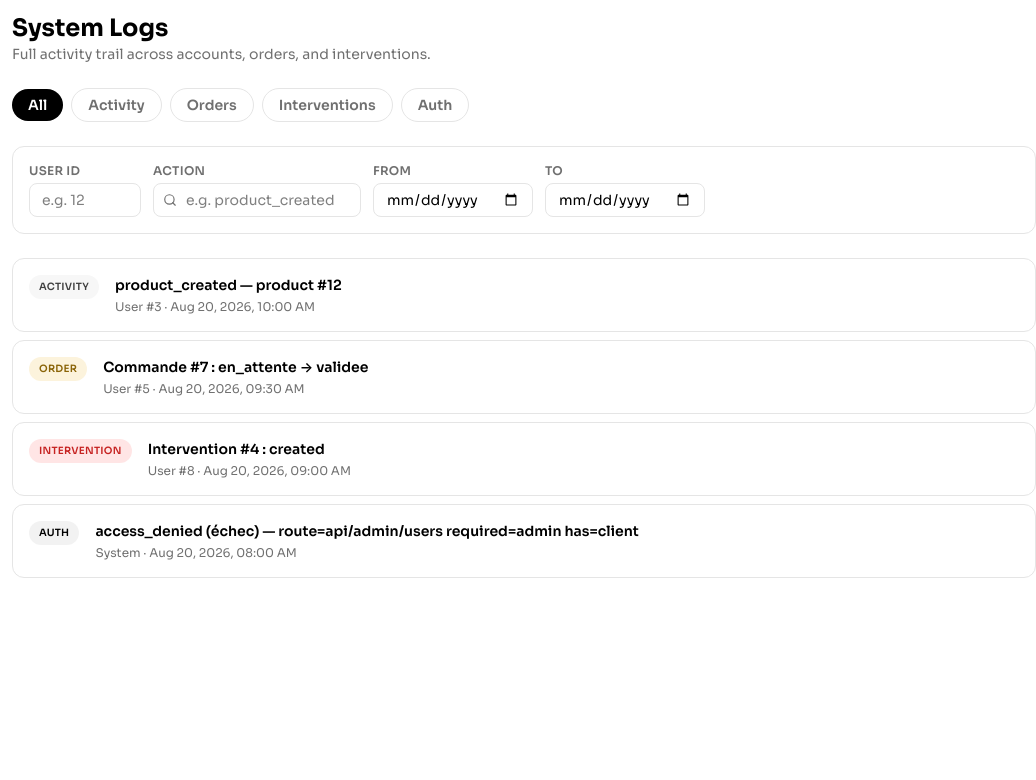
Test: Admin AdminLogs › shows a reset filters button once a filter is active, and clears filters on click
expect the text "product_created — product #12" is shown: met, box 115,276 -> 342,294
expect the button "reset filters" is not shown: met
Click the button "Orders": {"x": 212, "y": 105} 170,88 -> 254,122
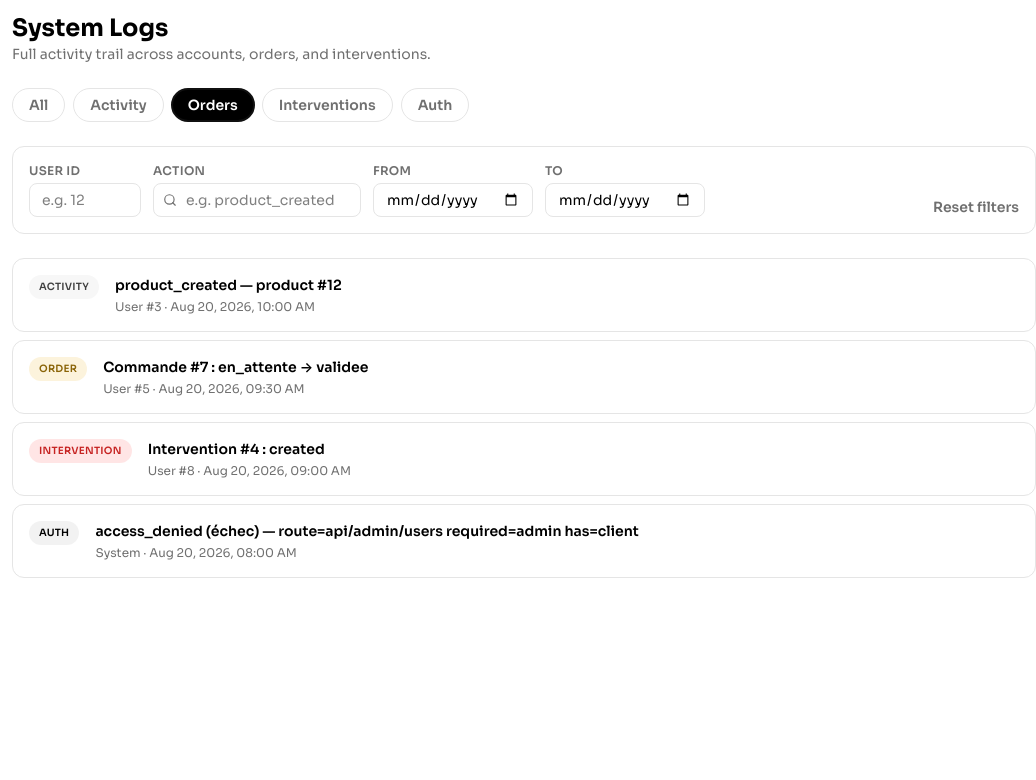
Click the button "Reset filters": {"x": 976, "y": 207} 933,197 -> 1019,217
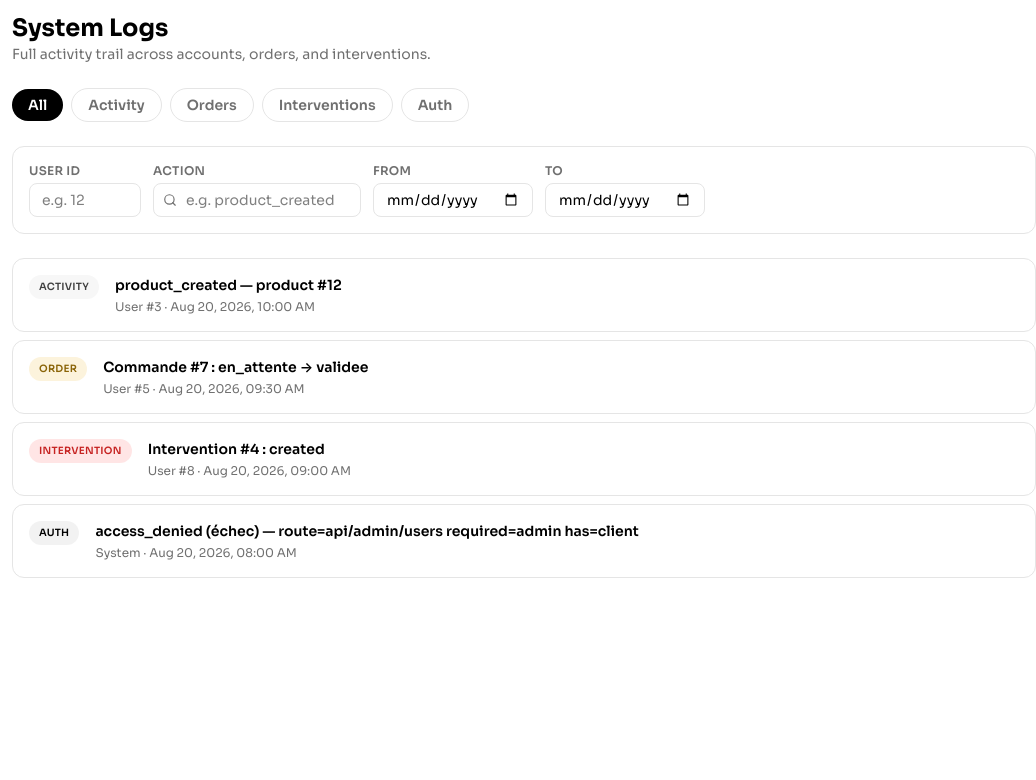
expect the button "Reset filters" is gone: met
